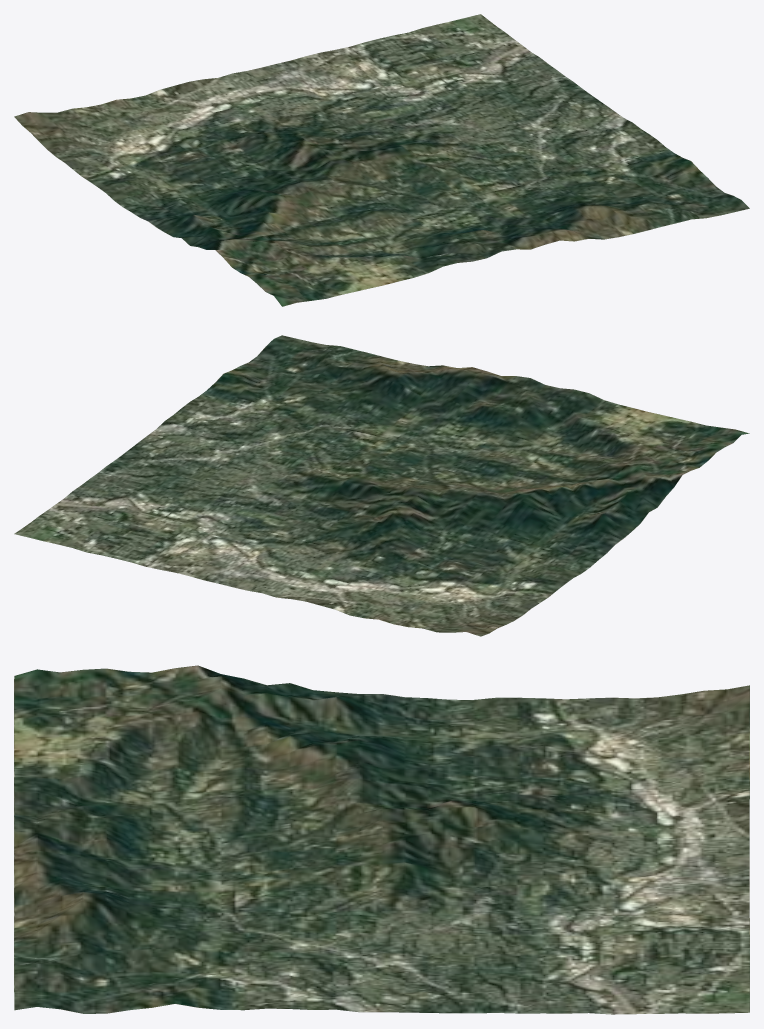
The picture shows the model from 3 angles, top to bottom: view 1: azimuth 30°, elevation 25°; view 2: azimuth 150°, elevation 25°; view 3: azimuth 270°, elevation 25°; orthographic projection. The views are drawn at different scales.
Bounding box in the file's own units: 15615 × 858 × 15538.
1 material, 1 textured.
